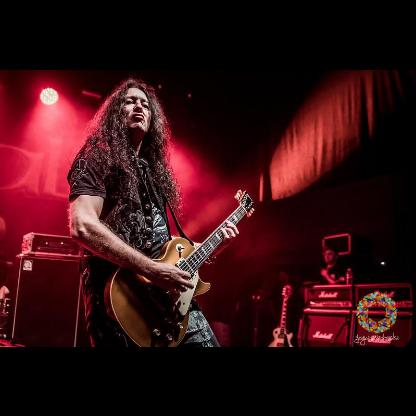guitar: (103, 189, 255, 347), (266, 285, 294, 347)
